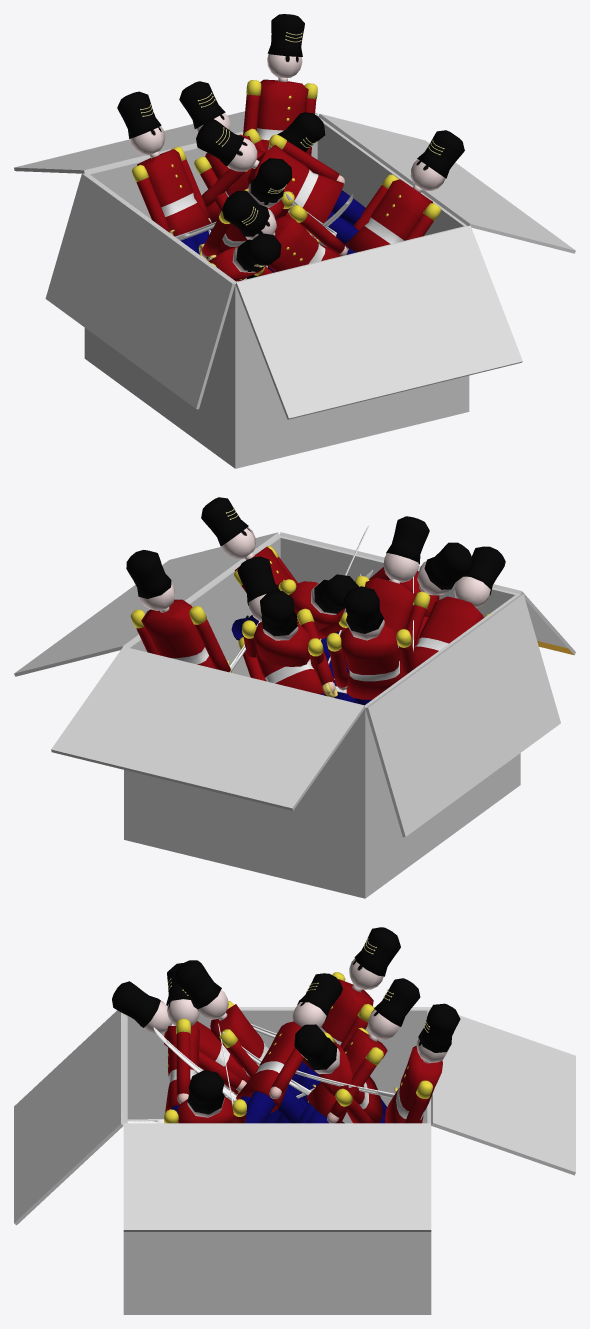
File: SoliderBox.fbx
The picture shows the model from 3 angles, top to bottom: view 1: azimuth 30°, elevation 25°; view 2: azimuth 150°, elevation 25°; view 3: azimuth 270°, elevation 25°; orthographic projection. The views are drawn at different scales.
Visible parts, largest first — view 1: 큐브, Body.006, Body.008, Body.001, Body.004, Body.005, Body.003, Body.002, Body.007, Body; view 2: 큐브, Body.006, Body.004, Body.003, Body, Body.007, Body.002, Body.008, Body.001, Body.005; view 3: 큐브, Body.008, Body.002, Body.006, Body.003, Body.004, Body.007, Body, Body.005, Body.001.
Part boxes in pixels (bbox=[...]): 큐브: bbox=[14, 111, 575, 468]; Body.006: bbox=[117, 91, 216, 254]; Body.008: bbox=[196, 119, 365, 248]; Body.001: bbox=[285, 130, 464, 254]; Body.004: bbox=[243, 14, 317, 278]; Body.005: bbox=[222, 191, 347, 276]; Body.003: bbox=[198, 158, 294, 260]; Body.002: bbox=[179, 81, 292, 272]; Body.007: bbox=[201, 112, 325, 234]; Body: bbox=[208, 233, 281, 281]; 큐브: bbox=[14, 532, 575, 898]; Body.006: bbox=[326, 576, 416, 705]; Body.004: bbox=[126, 550, 260, 672]; Body.003: bbox=[334, 516, 430, 703]; Body: bbox=[414, 546, 505, 666]; Body.007: bbox=[237, 556, 346, 697]; Body.002: bbox=[242, 574, 360, 681]; Body.008: bbox=[231, 524, 369, 640]; Body.001: bbox=[201, 497, 372, 702]; Body.005: bbox=[336, 542, 473, 633]; 큐브: bbox=[14, 1007, 575, 1314]; Body.008: bbox=[153, 973, 342, 1123]; Body.002: bbox=[223, 978, 420, 1123]; Body.006: bbox=[250, 927, 400, 1123]; Body.003: bbox=[174, 960, 307, 1123]; Body.004: bbox=[295, 1003, 460, 1123]; Body.007: bbox=[294, 1024, 386, 1123]; Body: bbox=[112, 981, 344, 1123]; Body.005: bbox=[127, 963, 199, 1123]; Body.001: bbox=[164, 1023, 246, 1123].
Bounding box in the file's own units: 11.36 × 8.28 × 14.25.
